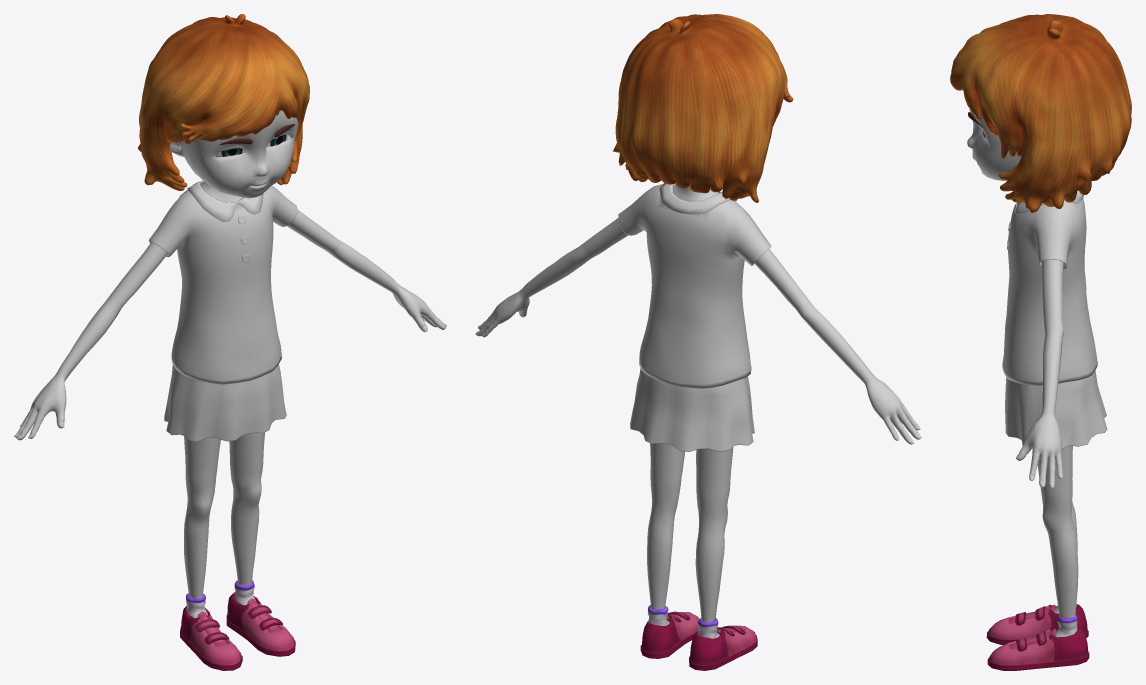
The picture shows the model from 3 angles, left to right: view 1: azimuth 30°, elevation 25°; view 2: azimuth 150°, elevation 25°; view 3: azimuth 270°, elevation 25°; orthographic projection.
Visible parts, largest first — view 1: cloth_geo, hair_geo, body_geo, skirt_geo, head_geo, L_shoe_geo, R_shoe_geo; view 2: hair_geo, cloth_geo, body_geo, skirt_geo, R_shoe_geo, L_shoe_geo; view 3: hair_geo, cloth_geo, body_geo, skirt_geo, L_shoe_geo, head_geo, R_shoe_geo, L_sock_geo.
Part boxes in pixels (box(x1,y1,x2,y2)): cloth_geo: box(148, 180, 297, 384); hair_geo: box(138, 14, 309, 190); body_geo: box(14, 209, 446, 598); skirt_geo: box(164, 364, 286, 441); head_geo: box(169, 110, 298, 202); L_shoe_geo: box(226, 592, 295, 656); R_shoe_geo: box(180, 605, 242, 670); hair_geo: box(613, 14, 793, 202); cloth_geo: box(618, 183, 771, 388); body_geo: box(475, 217, 921, 622); skirt_geo: box(630, 368, 754, 451); R_shoe_geo: box(689, 625, 757, 670); L_shoe_geo: box(640, 612, 699, 658); hair_geo: box(950, 14, 1131, 213); cloth_geo: box(1002, 190, 1097, 385); body_geo: box(1016, 259, 1078, 618); skirt_geo: box(1005, 370, 1107, 449); L_shoe_geo: box(987, 626, 1089, 670); head_geo: box(967, 107, 1021, 180); R_shoe_geo: box(986, 604, 1088, 644); L_sock_geo: box(1055, 615, 1077, 637).
Size of the model in its own units: 9029 by 12410 by 3241.
